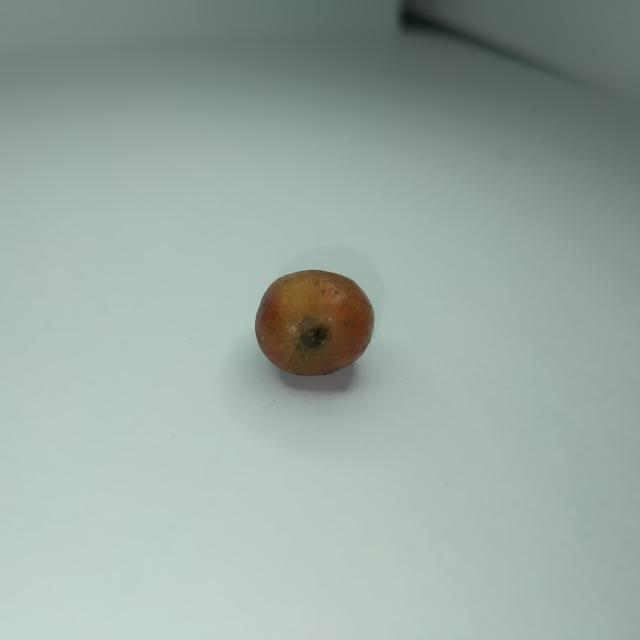Infectado: (255, 269, 374, 375)
